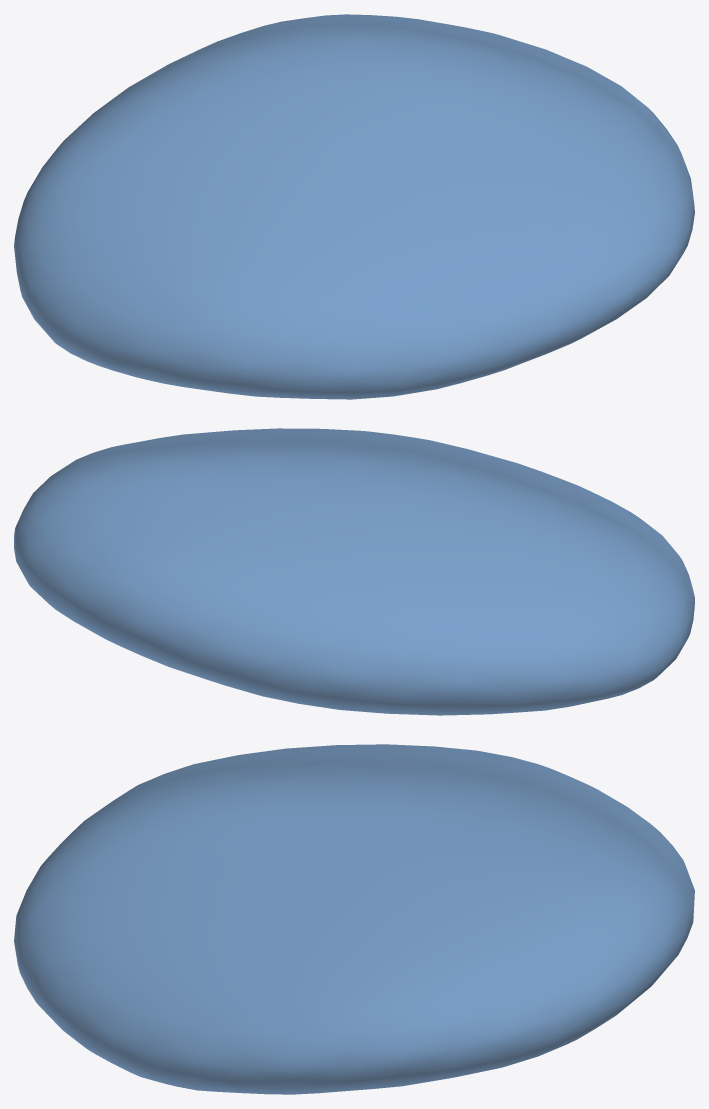
Rendered from cell.gltf.
3 renders of one model, top to bottom at view 1: azimuth 30°, elevation 25°; view 2: azimuth 150°, elevation 25°; view 3: azimuth 270°, elevation 25°, orthographic. The views are drawn at different scales.
Visible parts, largest first — view 1: Icosphere; view 2: Icosphere; view 3: Icosphere.
Part boxes in pixels (<box>): Icosphere: <box>14,14,694,399</box>; Icosphere: <box>14,428,694,715</box>; Icosphere: <box>14,744,694,1094</box>.
Size of the model in its own units: 6.63 by 1.76 by 5.84.
